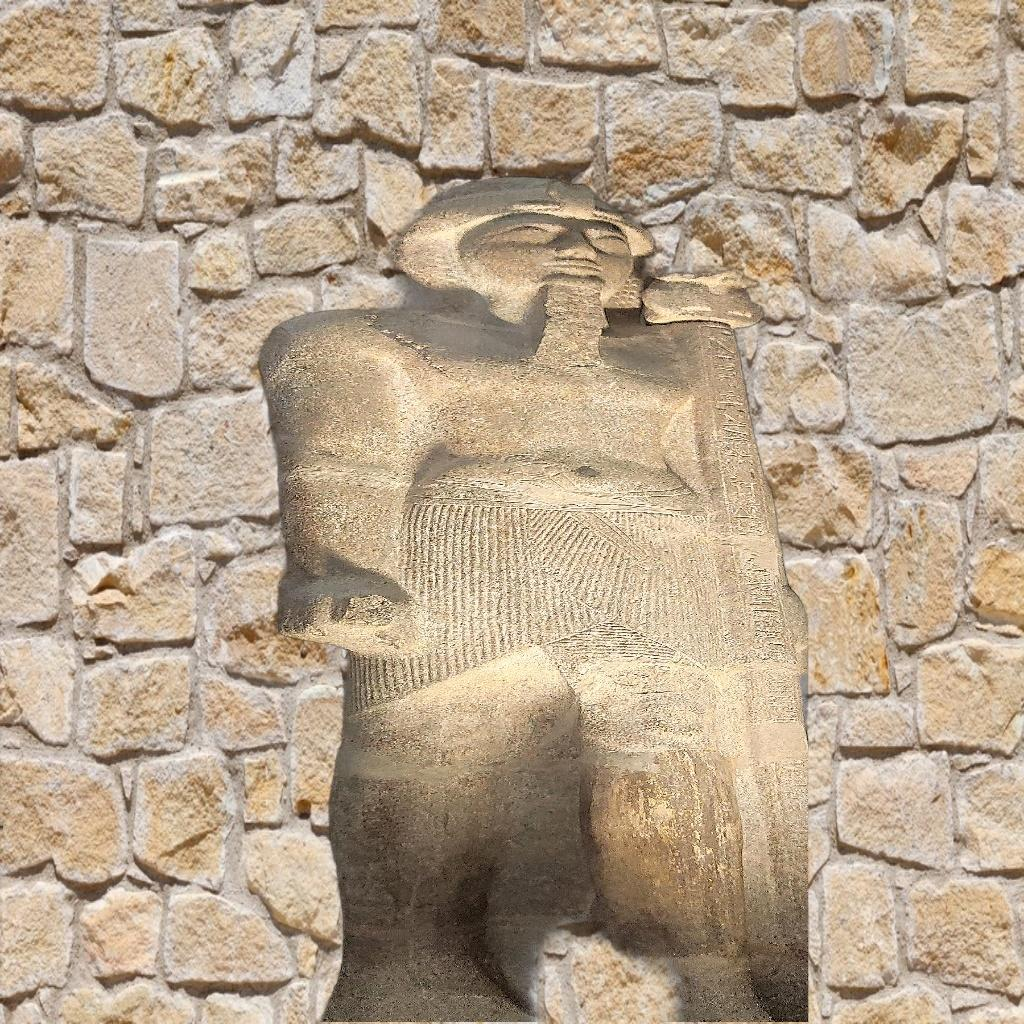Statue of Ramesses III as standard Bearer: (254, 169, 808, 1022)
